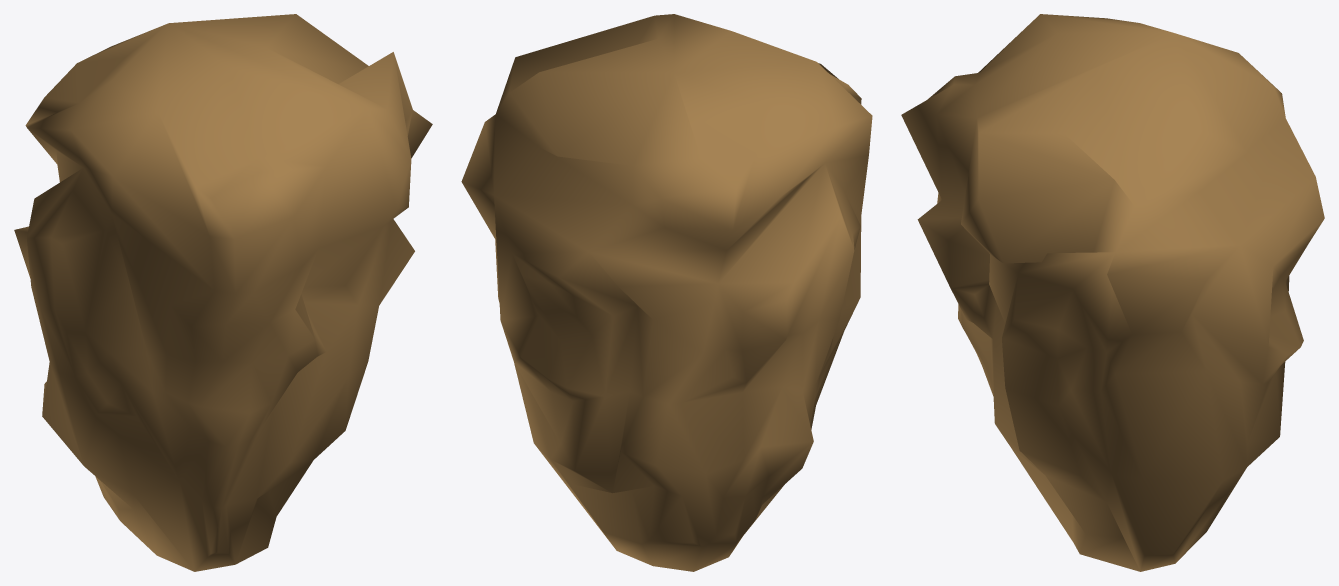
File: hill2.fbx
3 views of the same model, side by side, from view 1: azimuth 30°, elevation 25°; view 2: azimuth 150°, elevation 25°; view 3: azimuth 270°, elevation 25° (orthographic). The views are drawn at different scales.
Parts seen in each view (by area): view 1: pCube3; view 2: pCube3; view 3: pCube3.
Boxes of the visible parts, x1=… form: pCube3: x1=14, y1=14, x2=432, y2=571; pCube3: x1=461, y1=14, x2=872, y2=571; pCube3: x1=901, y1=14, x2=1324, y2=571.
Bounding box in the file's own units: 30.68 × 37.89 × 28.91.
